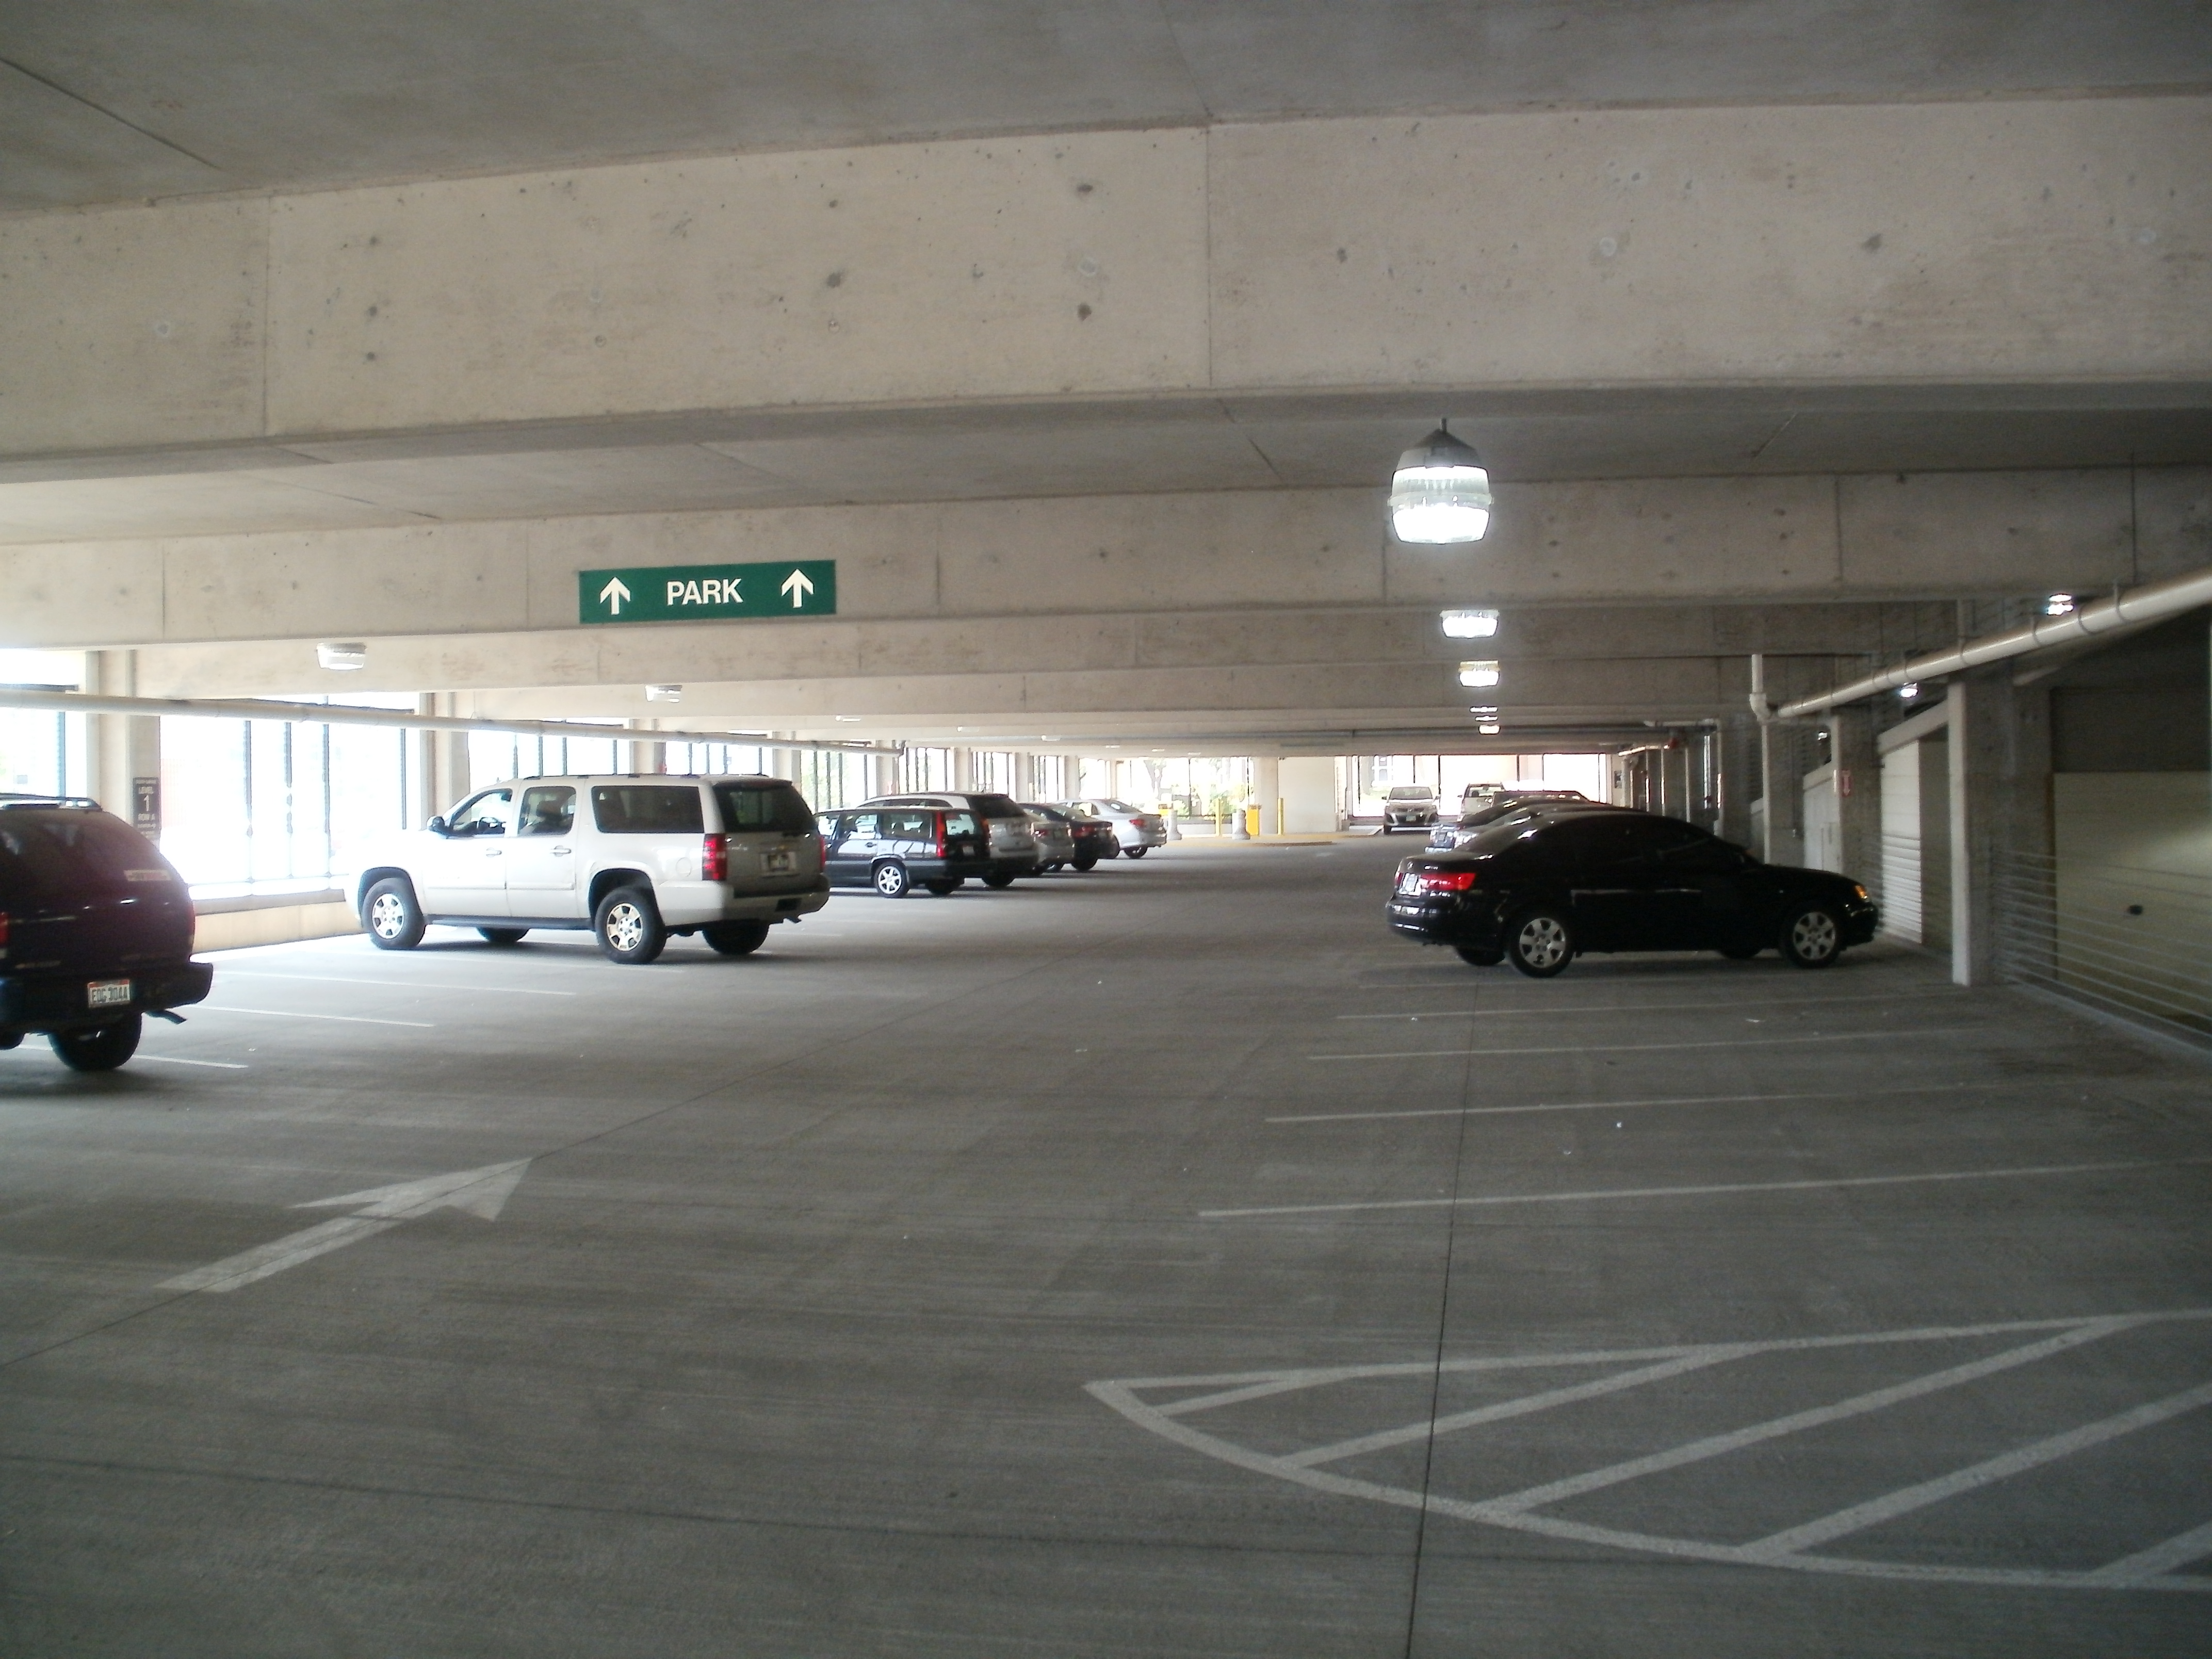empyt_space: (1111, 1136, 2212, 1398), (1177, 1065, 2212, 1243), (1261, 1014, 2210, 1126), (1301, 997, 2118, 1054), (207, 957, 582, 1044), (160, 993, 441, 1091)
